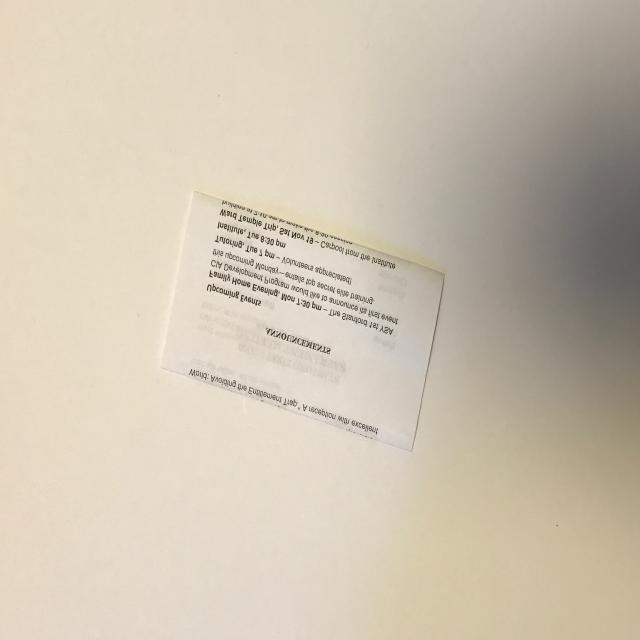paper: (147, 175, 452, 468)
